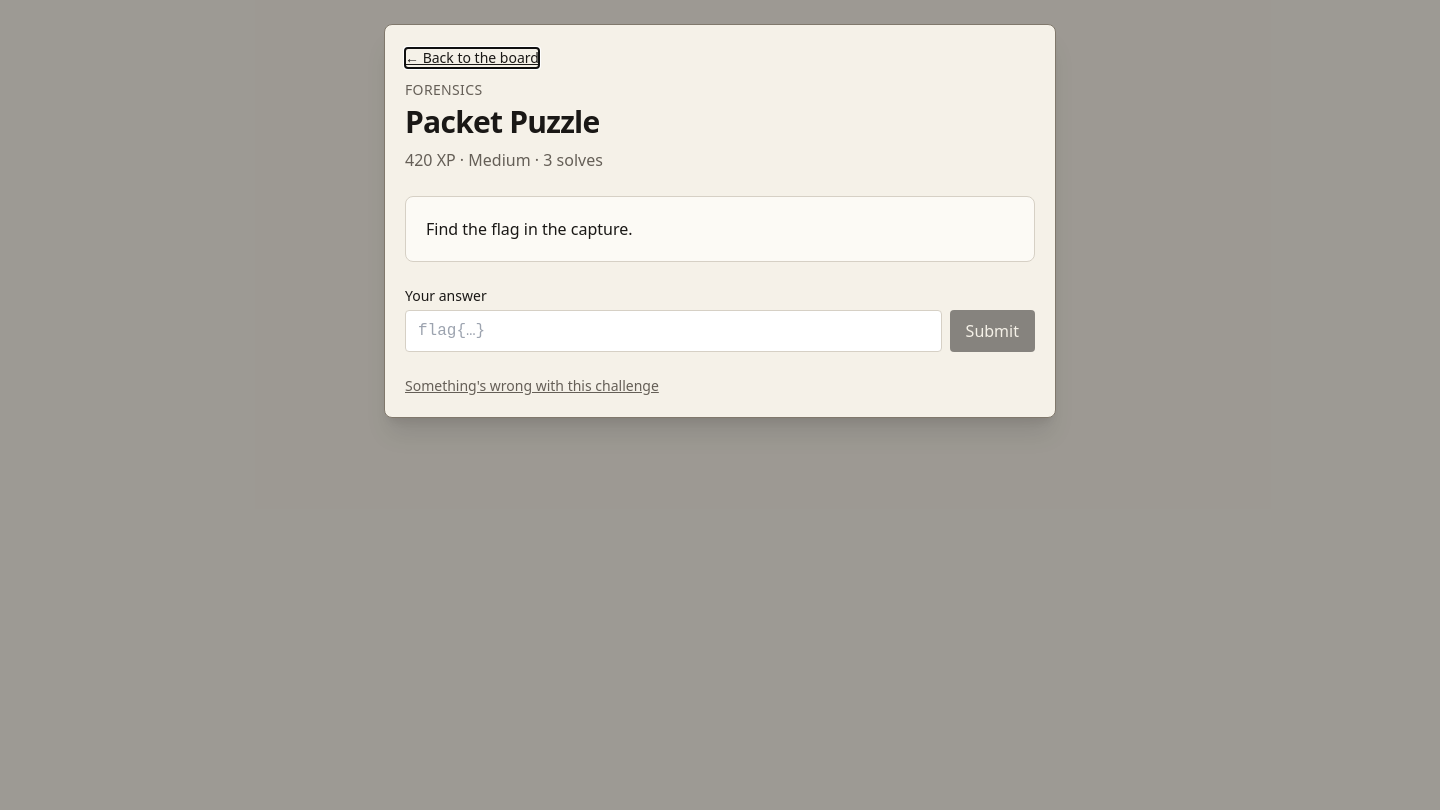
it: ChallengeDetailPage › submits an answer and reports the verdict
This screenshot has width=1440, height=810.
Click the field labelled "Your answer" at (673, 331), box x1=405 y1=310 x2=942 y2=352
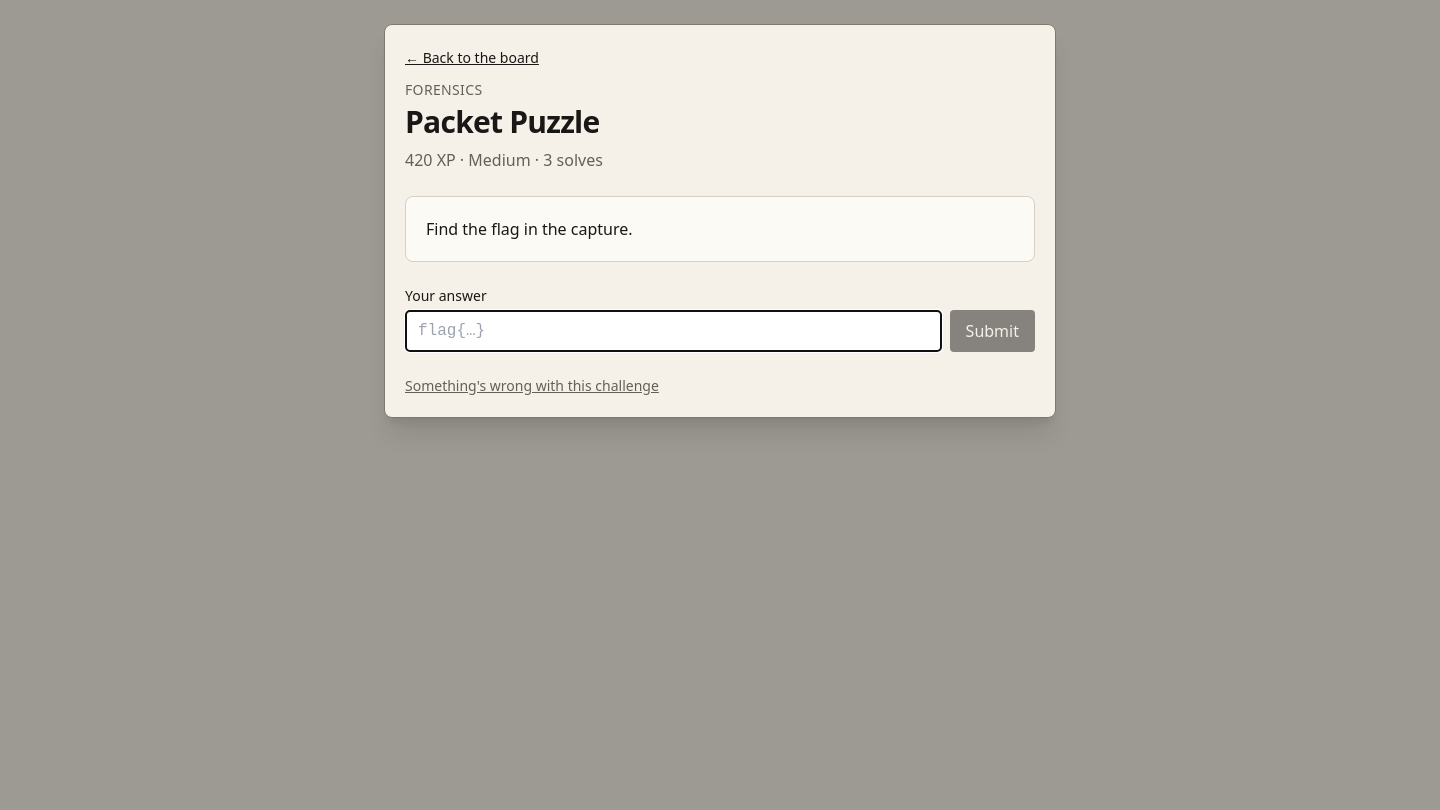
Type keys "flag{abc}"
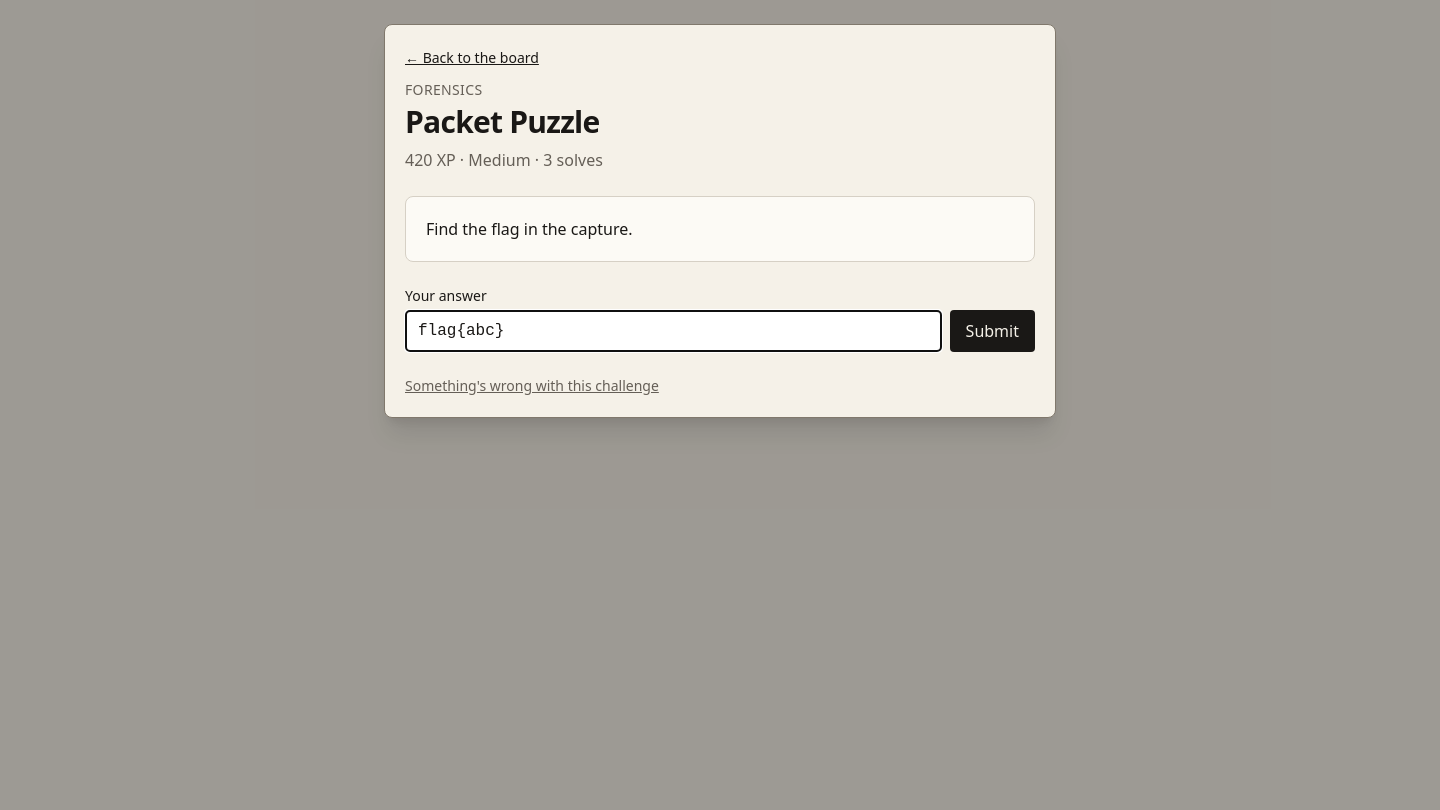
Click the button "Submit" at (992, 331), box x1=950 y1=310 x2=1035 y2=352
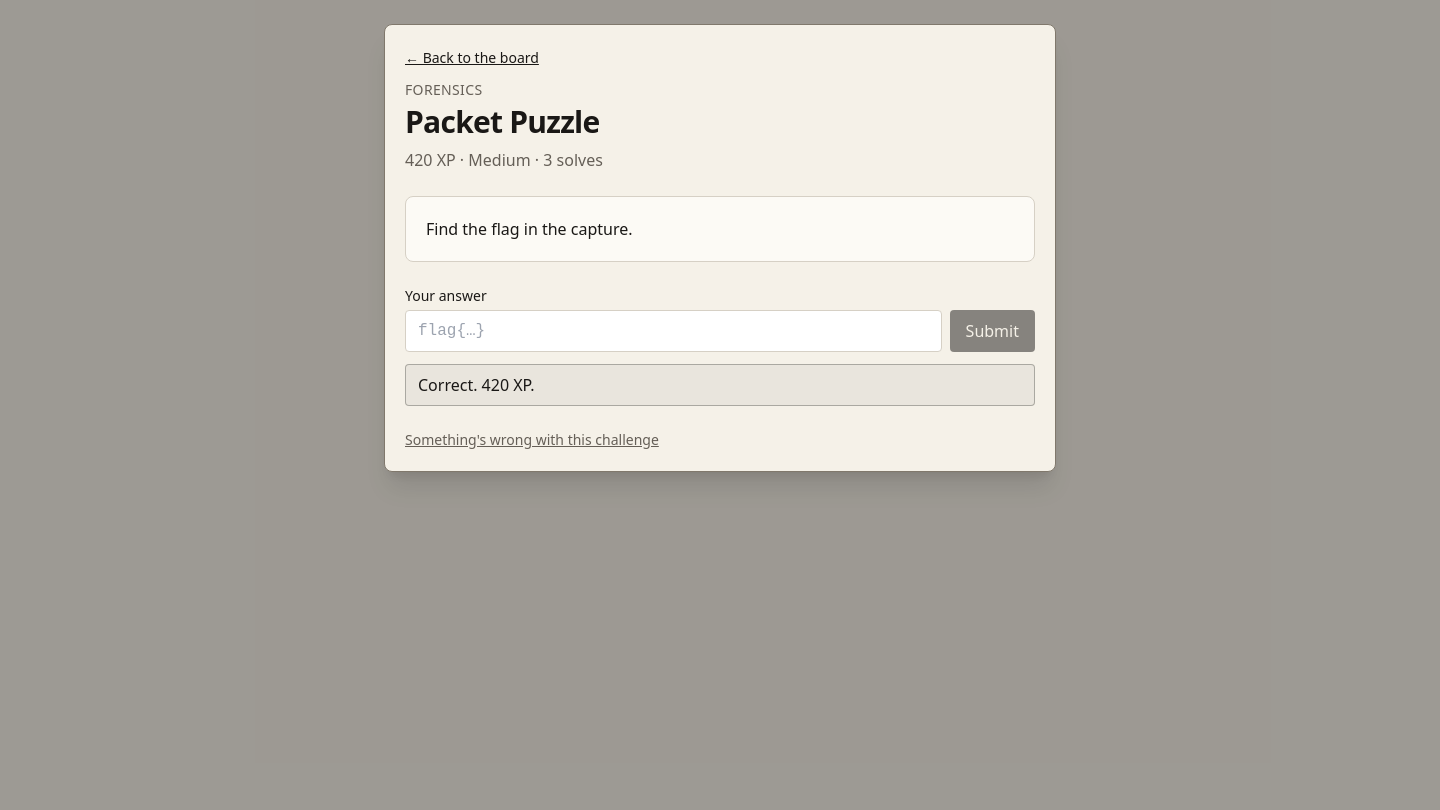
Check: the message reads "Correct. 420 XP.", box x1=418 y1=374 x2=534 y2=396
